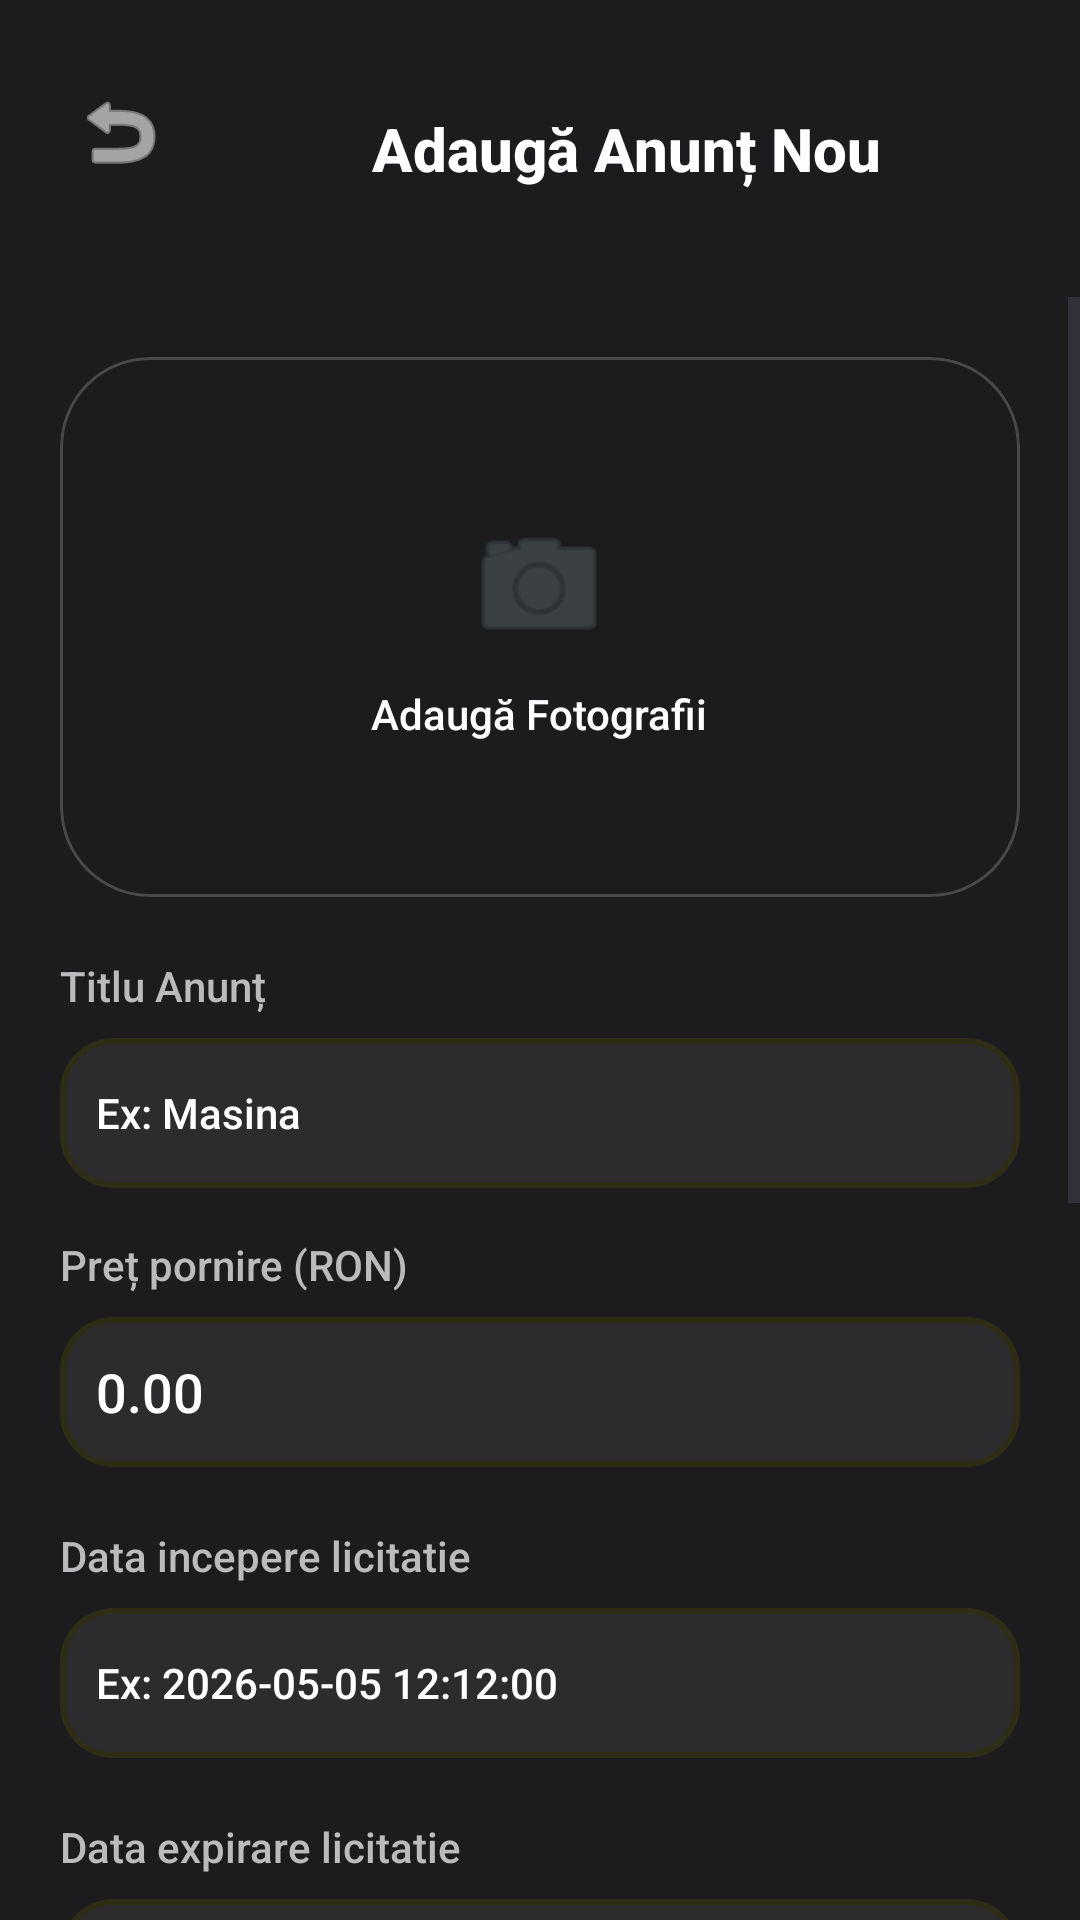

Icon click points for this 1080×1920 phone screenshot, format (x=x, y=y):
camera: (x=539, y=583)
revert: (x=121, y=132)
